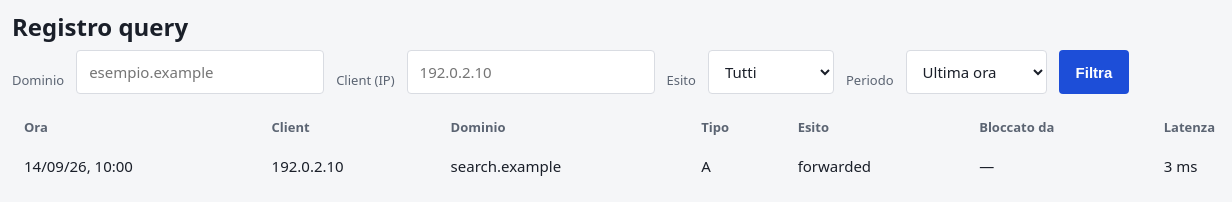
it: QueryLog › re-queries with the chosen filters on submit
The width and height of the screenshot is (1232, 202).
Check: the text "search.example" is shown, box top-left (439, 146), bottom-right (689, 186)
Type "ads.example" into the field labelled "Dominio" at (200, 72), box top-left (76, 50), bottom-right (324, 94)
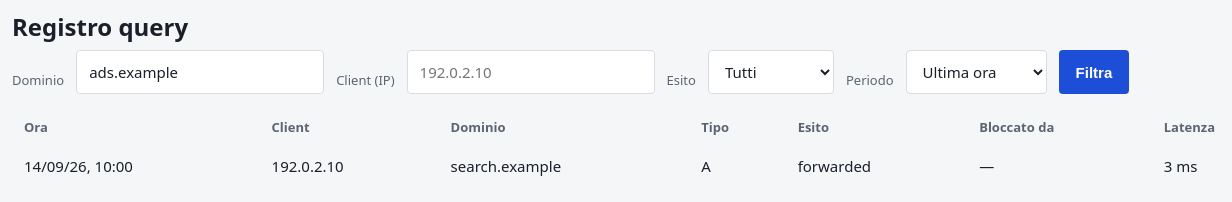
Select "Bloccate" in the dropdown labelled "Esito" at (771, 72), box top-left (708, 50), bottom-right (834, 94)
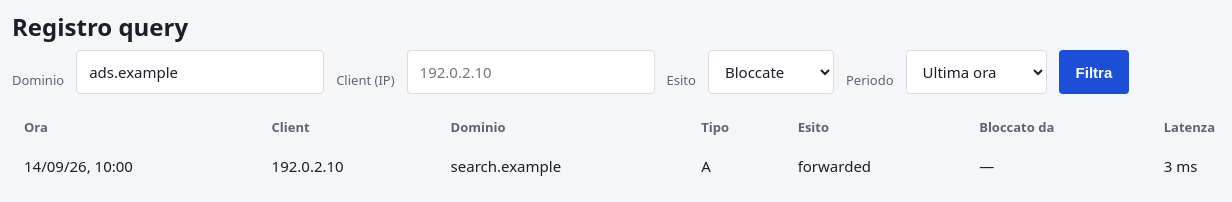
Click the button "Filtra" at (1094, 72), box top-left (1059, 50), bottom-right (1129, 94)
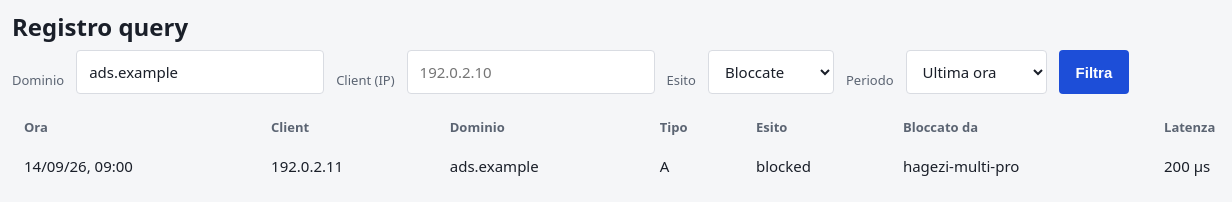
Check: the text "ads.example" is shown, box top-left (438, 146), bottom-right (648, 186)
Check: the text "search.example" is gone
